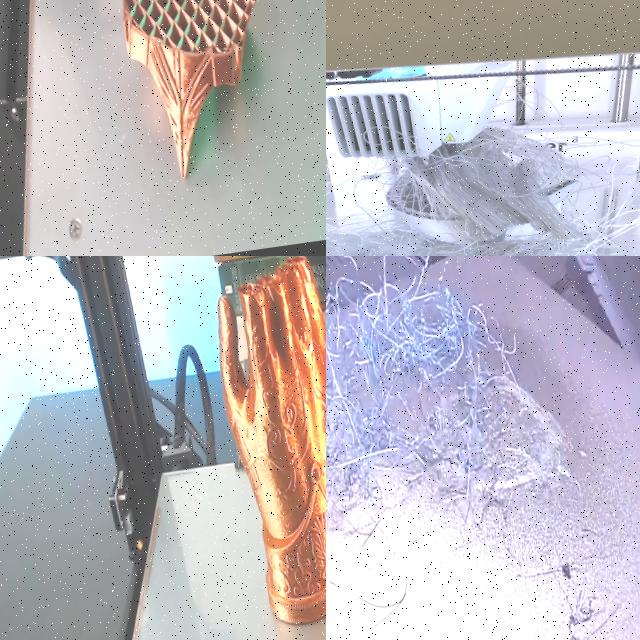spaghetti: (326, 268, 576, 547), (326, 74, 640, 256)
